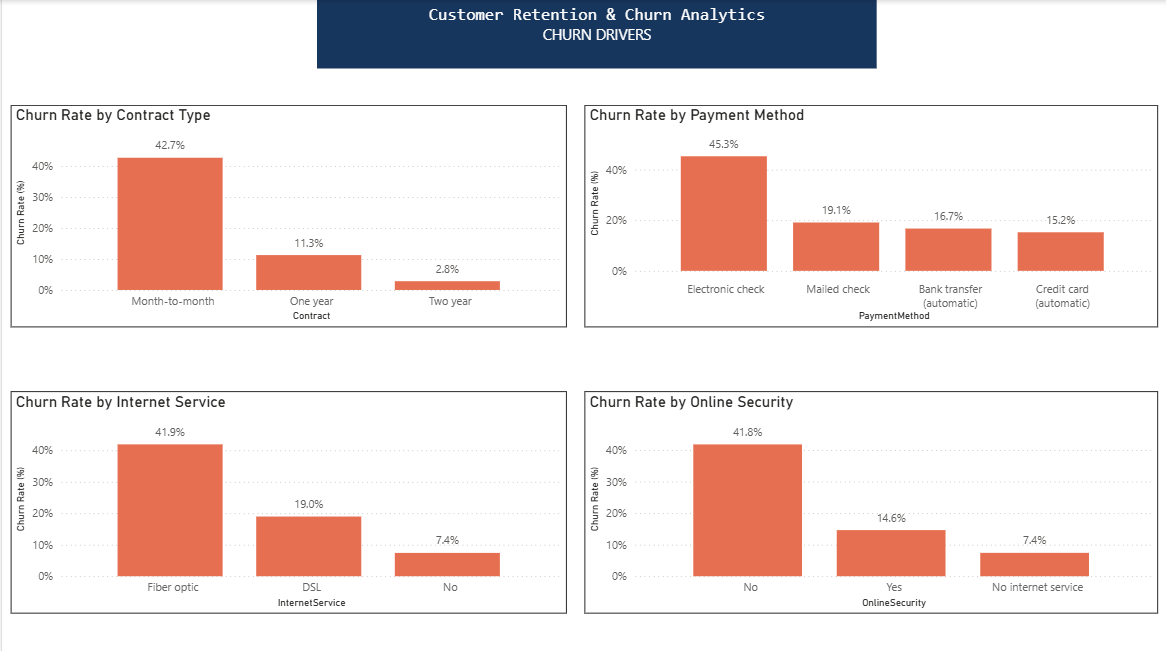

The page's visual inventory and layout, read from the dashboard file:
{"tool":"powerbi","page":{"name":"Churn Drivers","canvas":[1280,720],"ordinal":1},"visuals":[{"type":"textbox","box":[345.8,0,614.8,75.5],"z":0},{"type":"clusteredColumnChart","title":"Churn Rate by Contract Type","fields":{"Category":["cleaned_telco_churn.Contract"],"Y":["cleaned_telco_churn.Churn Rate by Contract"]},"box":[9.6,115.3,610.6,244.3],"z":1000},{"type":"clusteredColumnChart","title":"Churn Rate by Payment Method","fields":{"Category":["cleaned_telco_churn.PaymentMethod"],"Y":["cleaned_telco_churn.Churn Rate by Contract"]},"box":[639.5,115.3,629.8,244.3],"z":2000},{"type":"clusteredColumnChart","title":"Churn Rate by Internet Service","fields":{"Category":["cleaned_telco_churn.InternetService"],"Y":["cleaned_telco_churn.Churn Rate by Contract"]},"box":[9.6,429.5,610.6,244.3],"z":3000},{"type":"clusteredColumnChart","title":"Churn Rate by Online Security","fields":{"Category":["cleaned_telco_churn.OnlineSecurity"],"Y":["cleaned_telco_churn.Churn Rate by Contract"]},"box":[639.5,429.5,629.8,244.3],"z":4000}]}

Visuals, with their boxes in screenshot pixels (x1, y1, x2, y2), scaled from the page's 1280x720 canvas onto the 1166x651 screenshot:
textbox: bbox=(315, 0, 875, 68)
"Churn Rate by Contract Type" clusteredColumnChart: bbox=(9, 104, 565, 325)
"Churn Rate by Payment Method" clusteredColumnChart: bbox=(583, 104, 1156, 325)
"Churn Rate by Internet Service" clusteredColumnChart: bbox=(9, 388, 565, 609)
"Churn Rate by Online Security" clusteredColumnChart: bbox=(583, 388, 1156, 609)
